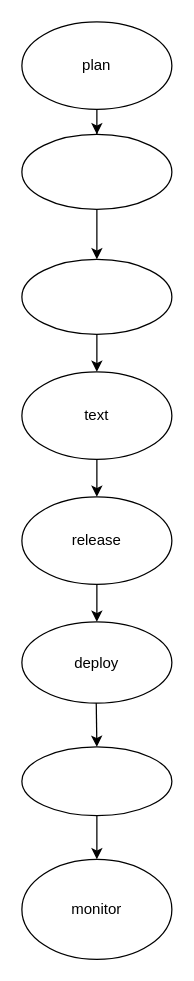
Image size: 194x981. Some labels were removed from this diagram. The centre of each missing label's shape, as x and y in pixels:
build: the point at 96,296
code: the point at 96,171
operator: the point at 96,781
